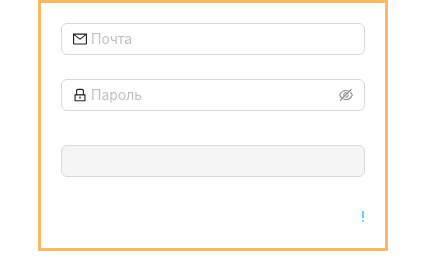
Scenario: SignInPage › displays RU error notification when signIn function throws an error
Type "test@example.com" into the field with placeholder "Почта" at [222, 39], box [91, 28, 353, 50]
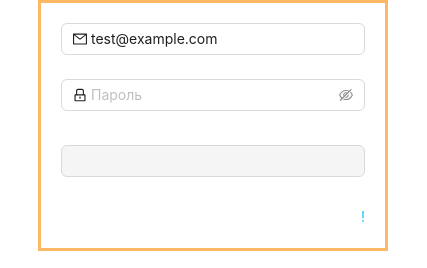
Type "password123!" into the password field with placeholder "Пароль" at [213, 95], box [91, 84, 335, 106]
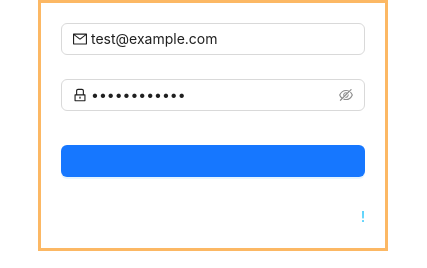
Click the button with test id "submit" at [213, 161], box [61, 145, 365, 177]
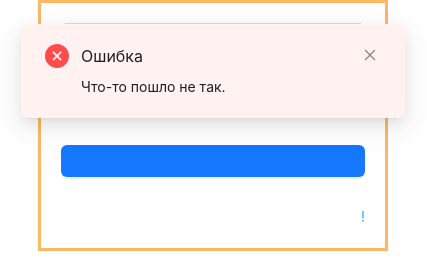
Check: the text "Ошибка" is shown, box [81, 46, 143, 66]
